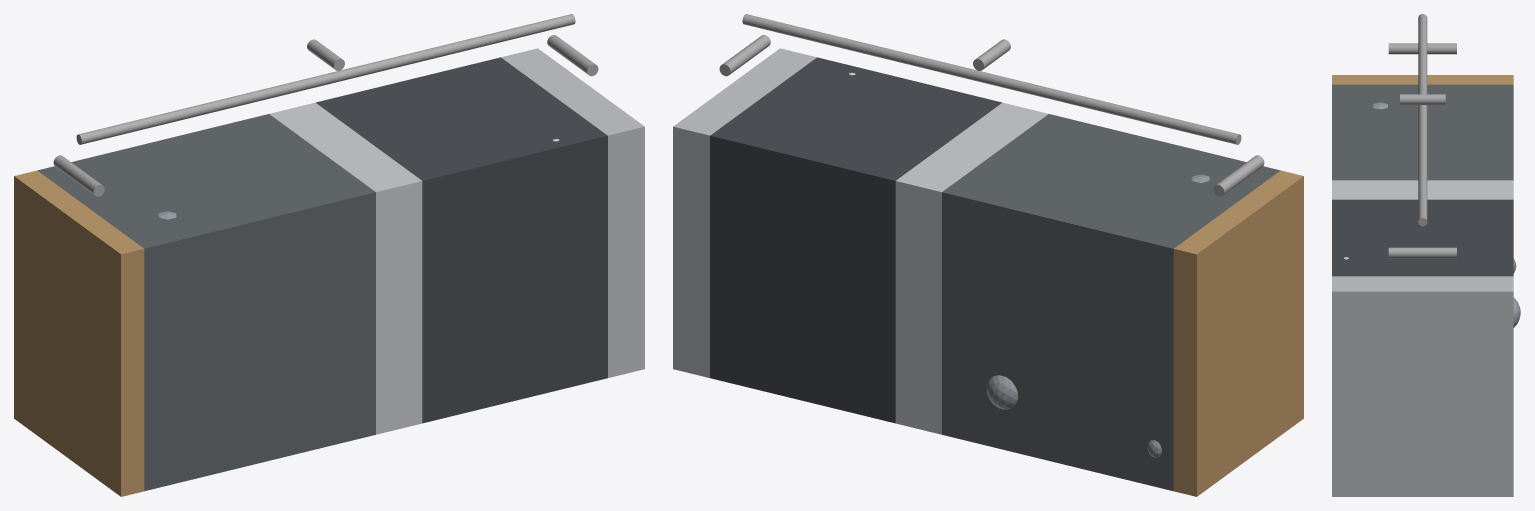
The model's file is full_battery_assembly.glb.
3 renders of one model, left to right at view 1: azimuth 30°, elevation 25°; view 2: azimuth 150°, elevation 25°; view 3: azimuth 270°, elevation 25°, orthographic. The views are drawn at different scales.
Visible parts, largest first — view 1: geometry_1, geometry_53, geometry_0, geometry_52, geometry_114, geometry_117, geometry_115, geometry_116; view 2: geometry_1, geometry_53, geometry_0, geometry_52, geometry_114, geometry_117, geometry_12, geometry_115, geometry_116; view 3: geometry_114, geometry_1, geometry_53, geometry_52, geometry_117, geometry_0, geometry_116, geometry_115, geometry_118.
Boxes of the visible parts, x1=… form: geometry_1: x1=37, y1=114, x2=375, y2=491; geometry_53: x1=315, y1=57, x2=607, y2=423; geometry_0: x1=14, y1=170, x2=144, y2=496; geometry_52: x1=269, y1=102, x2=422, y2=434; geometry_114: x1=501, y1=48, x2=644, y2=377; geometry_117: x1=76, y1=14, x2=575, y2=144; geometry_115: x1=53, y1=155, x2=104, y2=196; geometry_116: x1=547, y1=35, x2=598, y2=76; geometry_1: x1=942, y1=114, x2=1280, y2=491; geometry_53: x1=710, y1=57, x2=1002, y2=423; geometry_0: x1=1173, y1=170, x2=1303, y2=496; geometry_52: x1=895, y1=102, x2=1048, y2=434; geometry_114: x1=673, y1=48, x2=816, y2=377; geometry_117: x1=742, y1=14, x2=1241, y2=144; geometry_12: x1=986, y1=375, x2=1017, y2=409; geometry_115: x1=1213, y1=155, x2=1264, y2=196; geometry_116: x1=719, y1=35, x2=770, y2=76; geometry_114: x1=1332, y1=276, x2=1513, y2=496; geometry_1: x1=1332, y1=84, x2=1513, y2=180; geometry_53: x1=1332, y1=199, x2=1513, y2=276; geometry_52: x1=1332, y1=180, x2=1513, y2=199; geometry_117: x1=1418, y1=14, x2=1427, y2=226; geometry_0: x1=1332, y1=75, x2=1513, y2=84; geometry_116: x1=1388, y1=247, x2=1456, y2=258; geometry_115: x1=1388, y1=43, x2=1456, y2=54; geometry_118: x1=1400, y1=94, x2=1445, y2=104.
Size of the model in its own units: 113 by 71.2 by 41.62.
